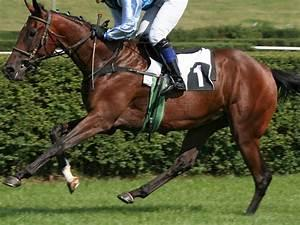horse: (2, 0, 299, 215)
